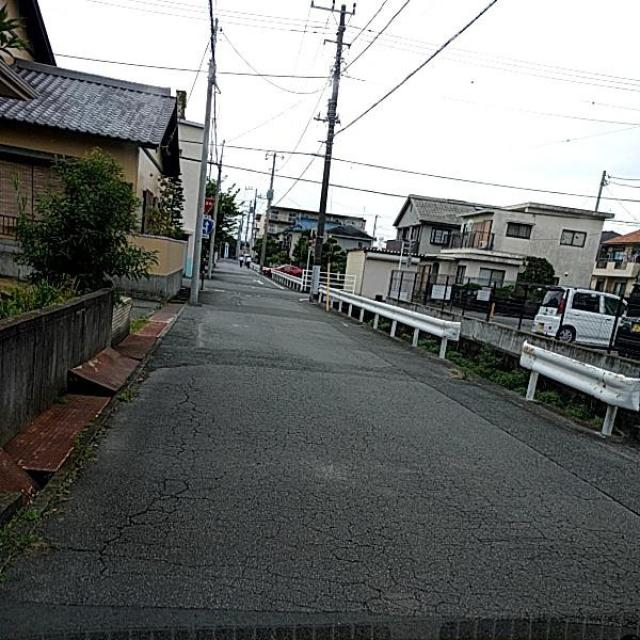Crack: (111, 326, 611, 640)
